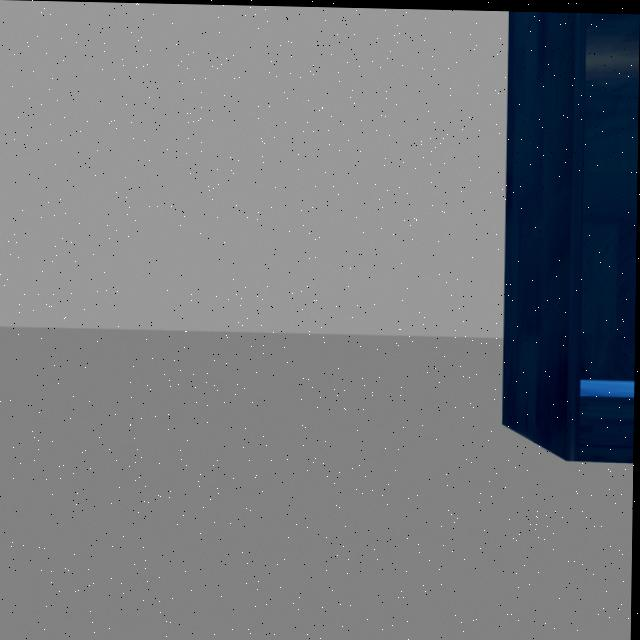shelf: (488, 9, 640, 490)
